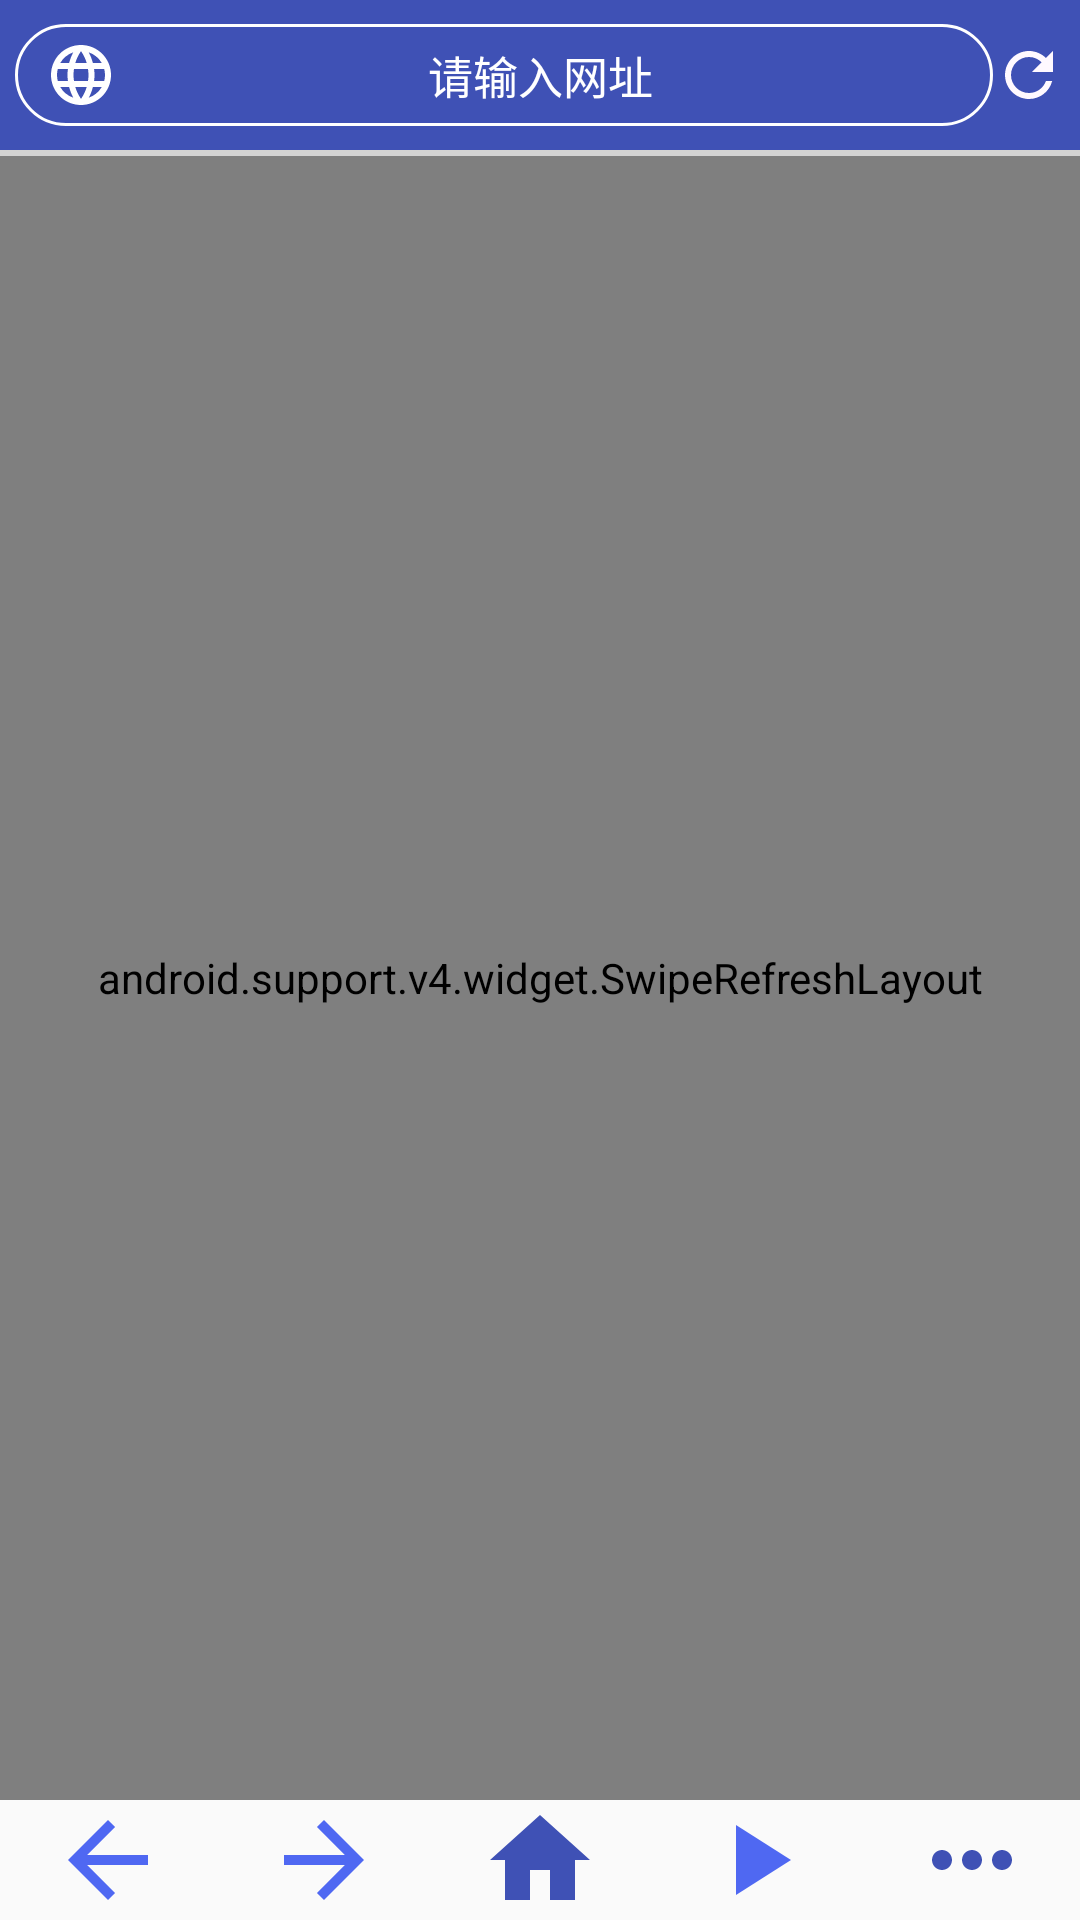

Icon click points for this 1080 × 1920 phone screenshot, format [x,y]:
arrow back: [108,1860]
arrow forward: [324,1860]
home: [540,1857]
more horiz: [972,1860]
play arrow: [763,1860]
